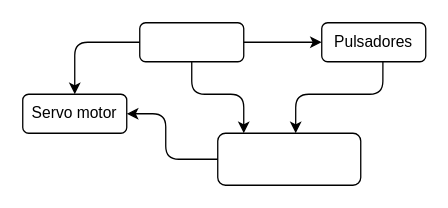
Image size: 448x208. Some labels were removed from this diagram. The centre of each missing label's shape, as x and y in pixels:
Fuente: [191,41]
Microcontrolador: [288,158]
